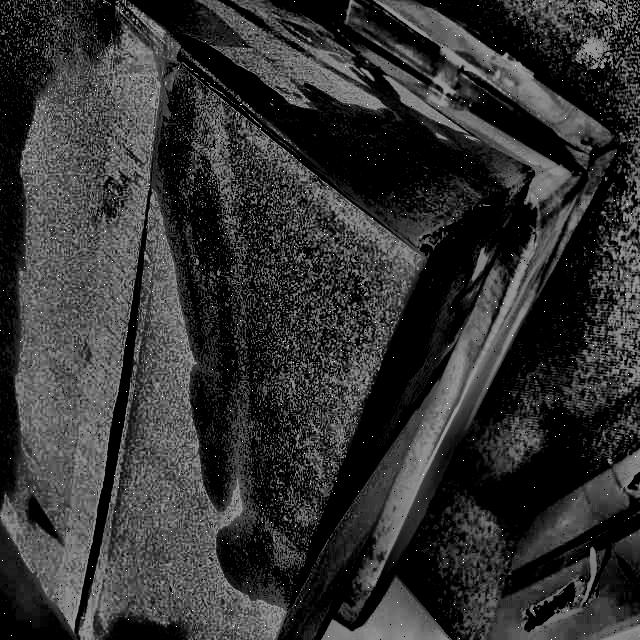box: (0, 0, 516, 640)
wet: (144, 70, 527, 607)
